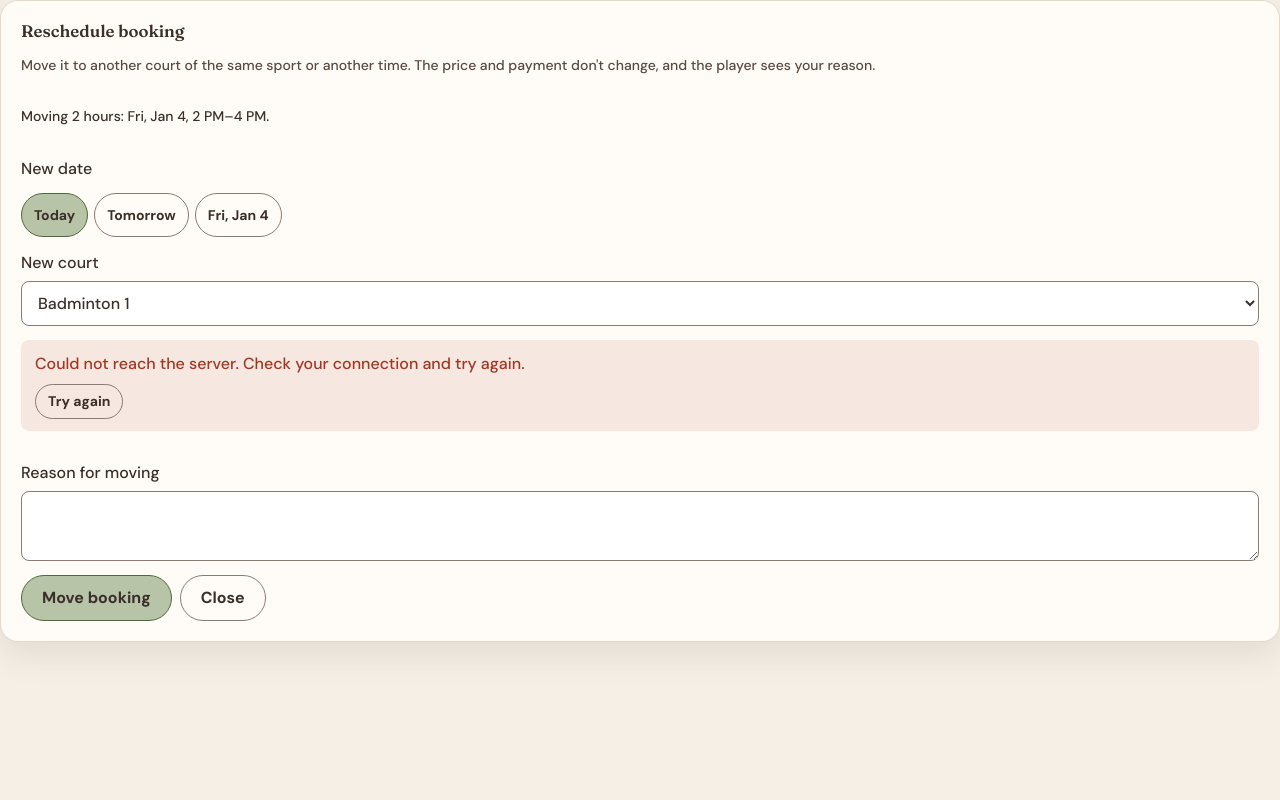
it: RescheduleForm › shows an error when the day cannot be loaded, and loads it again
This screenshot has width=1280, height=800.
Check: the message shows "reach the server", box [35,353,525,374]
Click the button "Try again": (79, 402) [35,384,123,419]
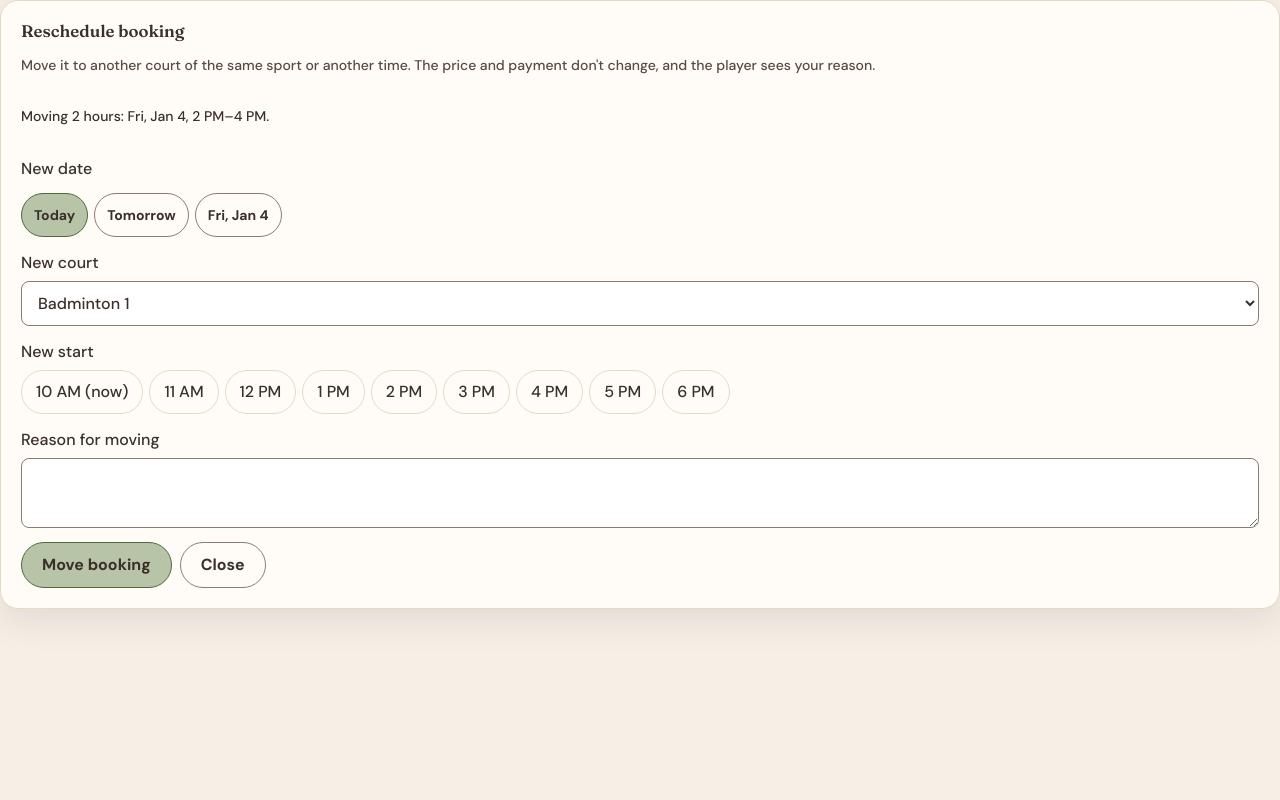
Check: the element "New start" is shown, box [21,341,730,414]
